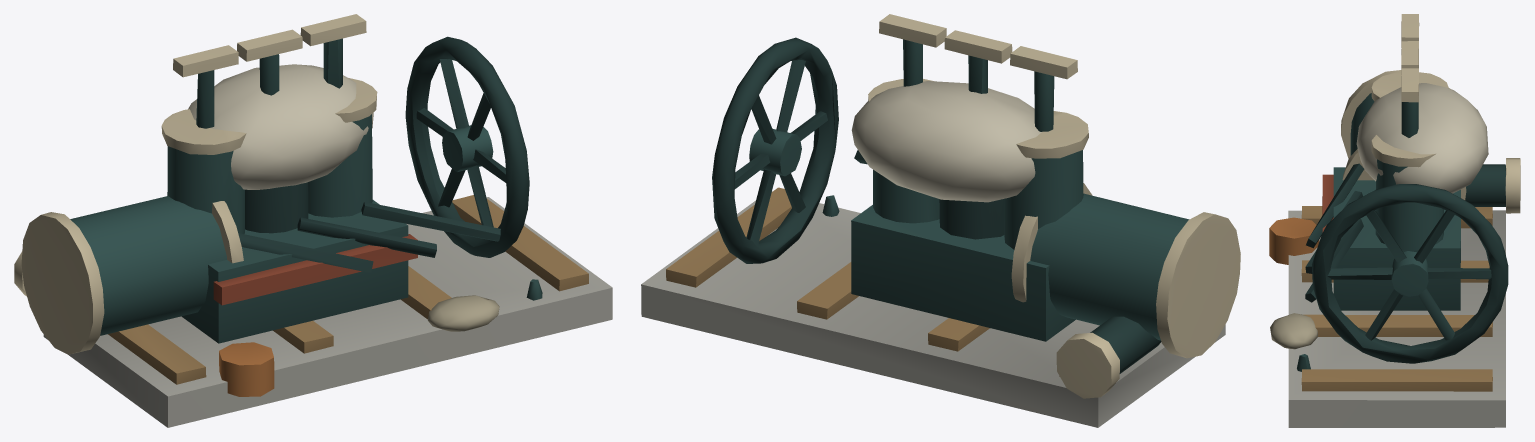
The model's file is pump_engine_a_lod2.glb.
The picture shows the model from 3 angles, left to right: view 1: azimuth 30°, elevation 25°; view 2: azimuth 150°, elevation 25°; view 3: azimuth 270°, elevation 25°; orthographic projection. The views are drawn at different scales.
Parts seen in each view (by area): view 1: Surface.001; view 2: Surface.001; view 3: Surface.001.
Boxes of the visible parts, bbox=[...] form: Surface.001: bbox=[14, 14, 612, 427]; Surface.001: bbox=[641, 14, 1240, 427]; Surface.001: bbox=[1269, 14, 1520, 427].
Bounding box in the file's own units: 7.68 × 4.43 × 3.9.
